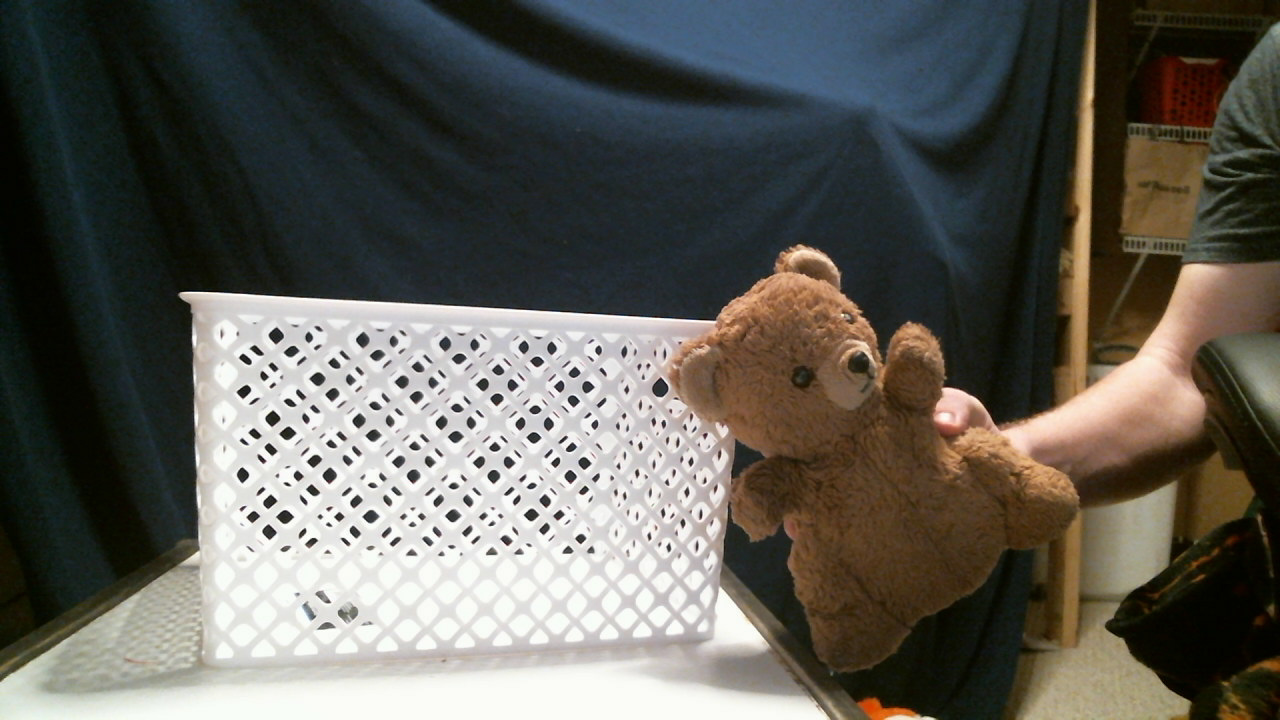Little_Mister_Bear: (746, 300, 900, 427)
